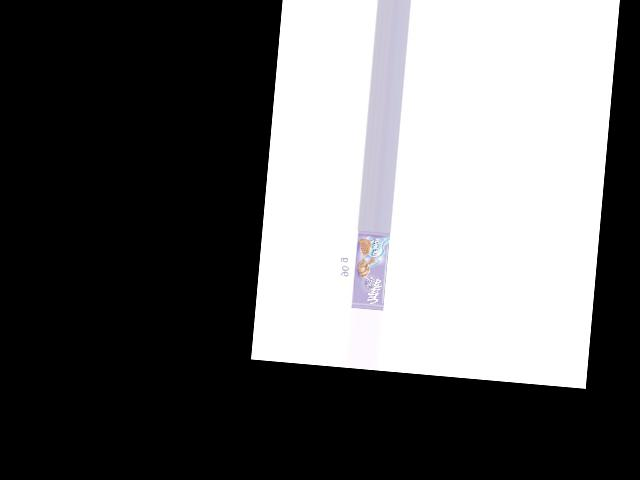chocolate: (351, 229, 390, 309)
